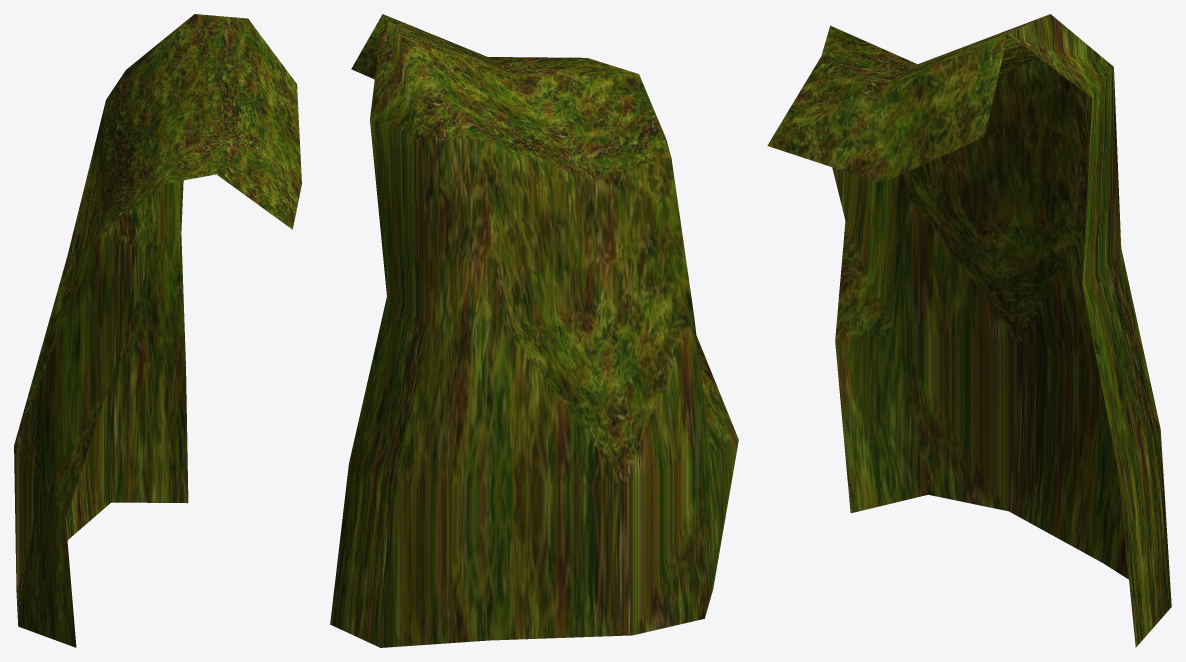
File: TROLLHOLE02_RM_PSURF190.fbx
3 renders of one model, left to right at view 1: azimuth 30°, elevation 25°; view 2: azimuth 150°, elevation 25°; view 3: azimuth 270°, elevation 25°, orthographic. The views are drawn at different scales.
Visible parts, largest first — view 1: TROLLHOLE02_RM_PSURF190; view 2: TROLLHOLE02_RM_PSURF190; view 3: TROLLHOLE02_RM_PSURF190.
Part boxes in pixels (box(x1,y1,x2,y2)): TROLLHOLE02_RM_PSURF190: box(14, 14, 301, 647); TROLLHOLE02_RM_PSURF190: box(330, 14, 738, 647); TROLLHOLE02_RM_PSURF190: box(767, 14, 1171, 647).
Size of the model in its own units: 50128 by 82744 by 49170.
1 material, 1 textured.
